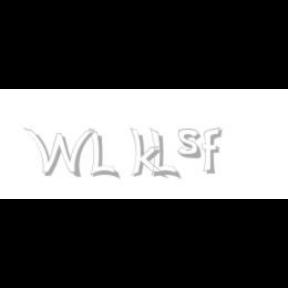L: (89, 128, 117, 180), (150, 128, 178, 180)
W: (23, 128, 95, 178)
f: (202, 128, 226, 174)
k: (129, 128, 167, 180)
s: (178, 128, 206, 160)
